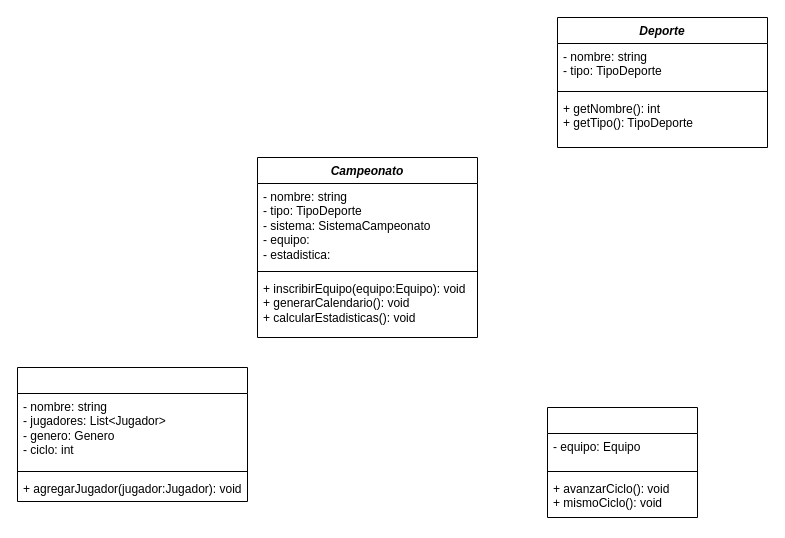
Image size: 785x538. Some labels were removed from this diagram. The box of each missing label's shape, as (x1, y1, x2, y2) in pixels:
Equipo: (16, 366, 248, 502)
Jugador: (546, 406, 698, 518)
